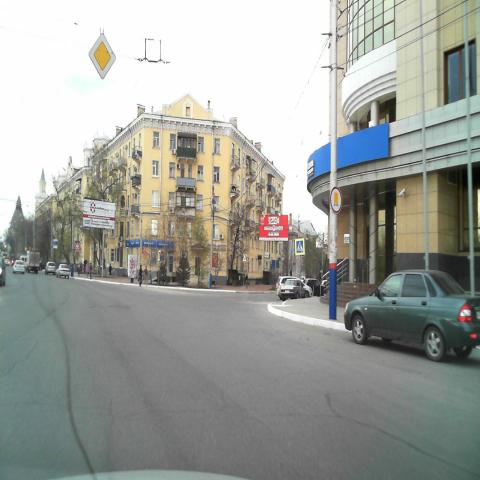3_32: (330, 185, 342, 214)
